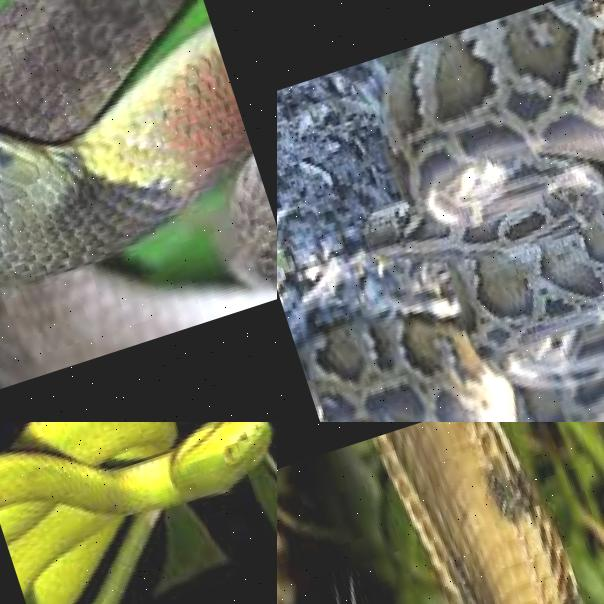snake: (277, 0, 604, 422), (0, 0, 277, 422), (277, 422, 604, 604), (0, 422, 277, 604)
